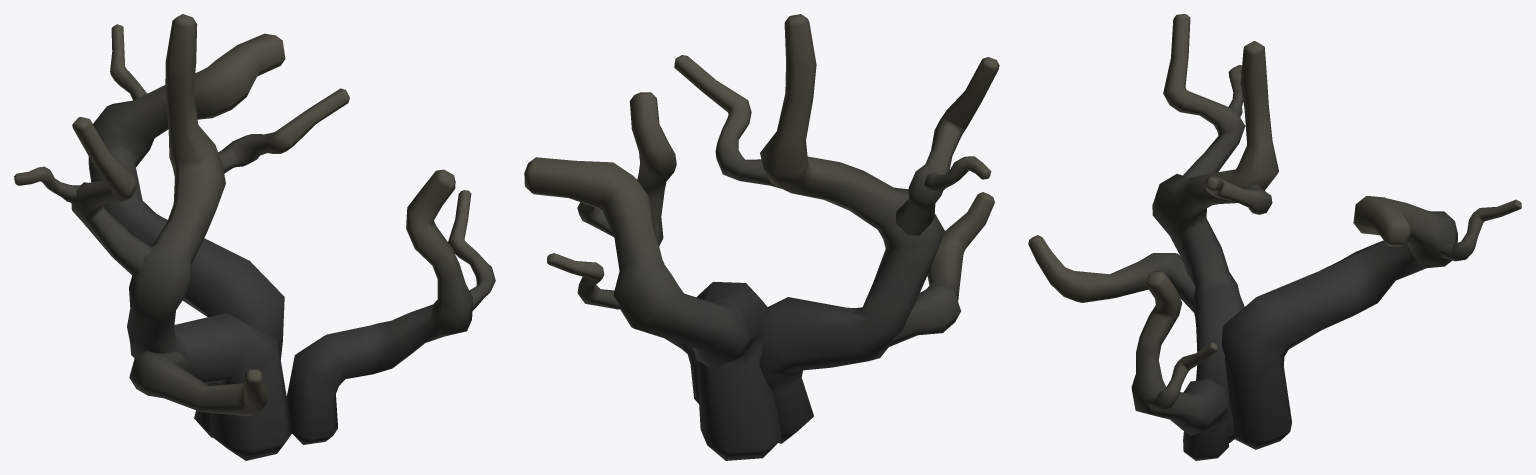
The model's file is ColdWood_DeadBush.fbx.
3 views of the same model, side by side, from view 1: azimuth 30°, elevation 25°; view 2: azimuth 150°, elevation 25°; view 3: azimuth 270°, elevation 25° (orthographic). The views are drawn at different scales.
Visible parts, largest first — view 1: ColdWood_DeadBush_LOD0; view 2: ColdWood_DeadBush_LOD0; view 3: ColdWood_DeadBush_LOD0.
Boxes of the visible parts, x1,y1,x2,y2 form: ColdWood_DeadBush_LOD0: (14, 14, 495, 460); ColdWood_DeadBush_LOD0: (524, 14, 999, 460); ColdWood_DeadBush_LOD0: (1028, 14, 1521, 460).
Size of what is drawn, in the model's own units: 0.9097 by 0.8511 by 1.01.
